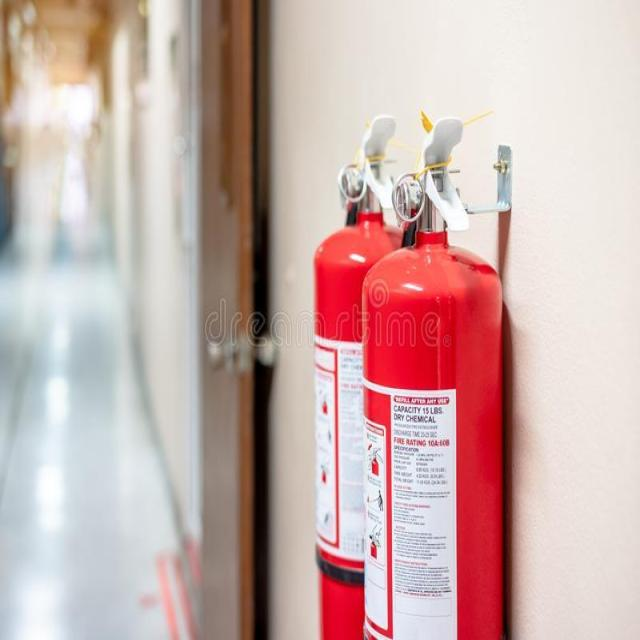fire_extinguisher: (356, 110, 514, 639), (307, 110, 420, 639)
